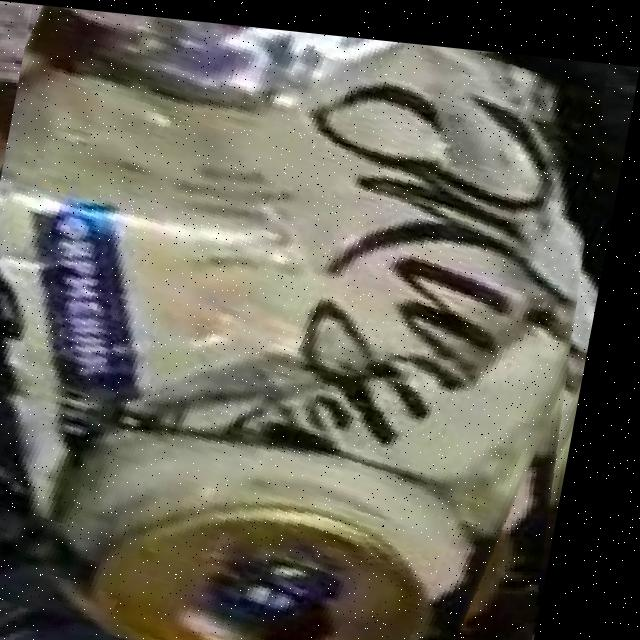can: (0, 4, 602, 640)
